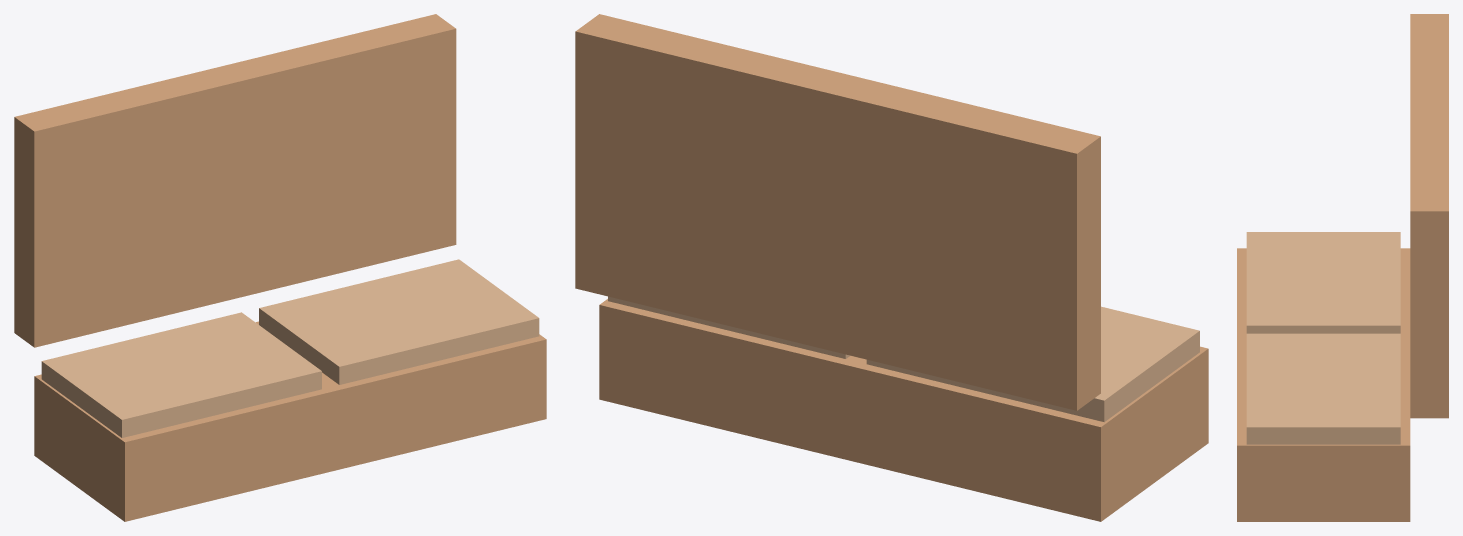
File: sofaBedAnimated.glb
3 views of the same model, side by side, from view 1: azimuth 30°, elevation 25°; view 2: azimuth 150°, elevation 25°; view 3: azimuth 270°, elevation 25° (orthographic). The views are drawn at different scales.
Visible parts, largest first — view 1: Backrest, Seat, Cushion_L, Cushion_R; view 2: Backrest, Seat, Cushion_L, Cushion_R; view 3: Seat, Cushion_R, Cushion_L, Backrest.
Boxes of the visible parts, x1,y1,x2,y2 form: Backrest: (14,14,456,347); Seat: (34,321,546,521); Cushion_L: (41,312,321,437); Cushion_R: (259,259,539,384); Backrest: (575,14,1100,410); Seat: (599,299,1208,521); Cushion_L: (866,306,1199,422); Cushion_R: (608,296,849,358); Seat: (1237,248,1410,521); Cushion_R: (1246,333,1400,444); Cushion_L: (1246,232,1400,333); Backrest: (1410,14,1448,418).
Bounding box in the file's own units: 1.94 × 1.42 × 0.88.
